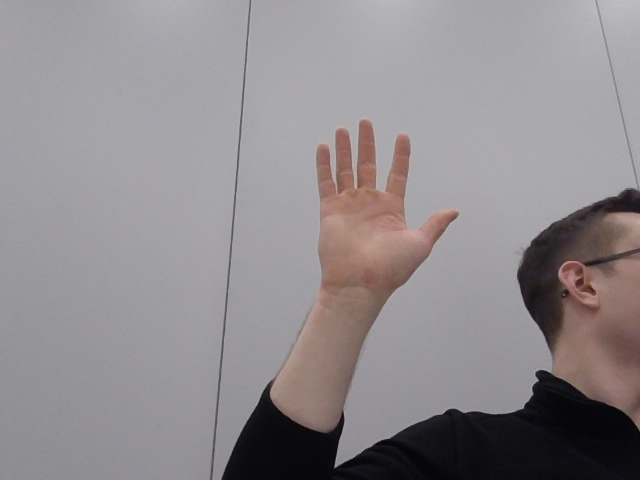nada: (285, 103, 476, 317)
